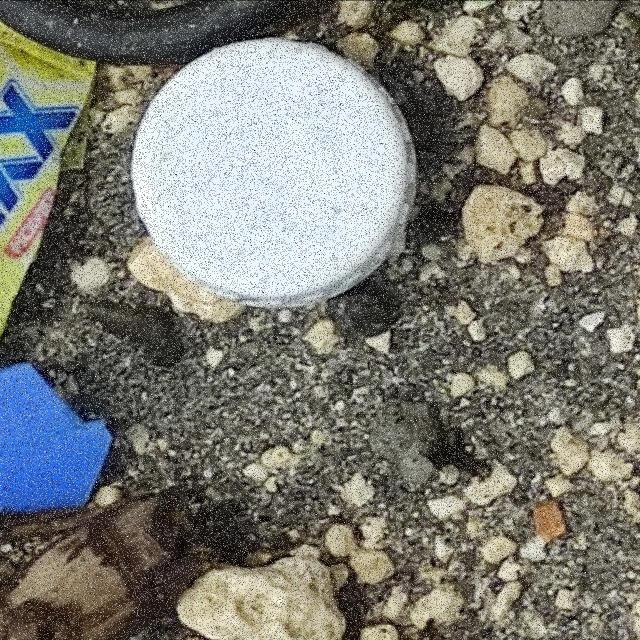plastic_waste: (129, 39, 424, 312), (1, 20, 98, 339)
